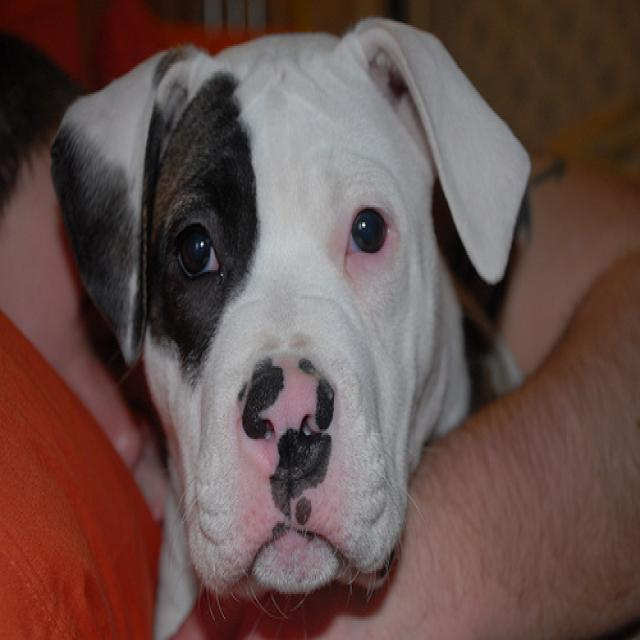dog-american_bulldog: (1, 10, 534, 636)
